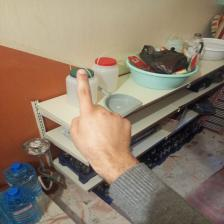one: (65, 66, 137, 173)
